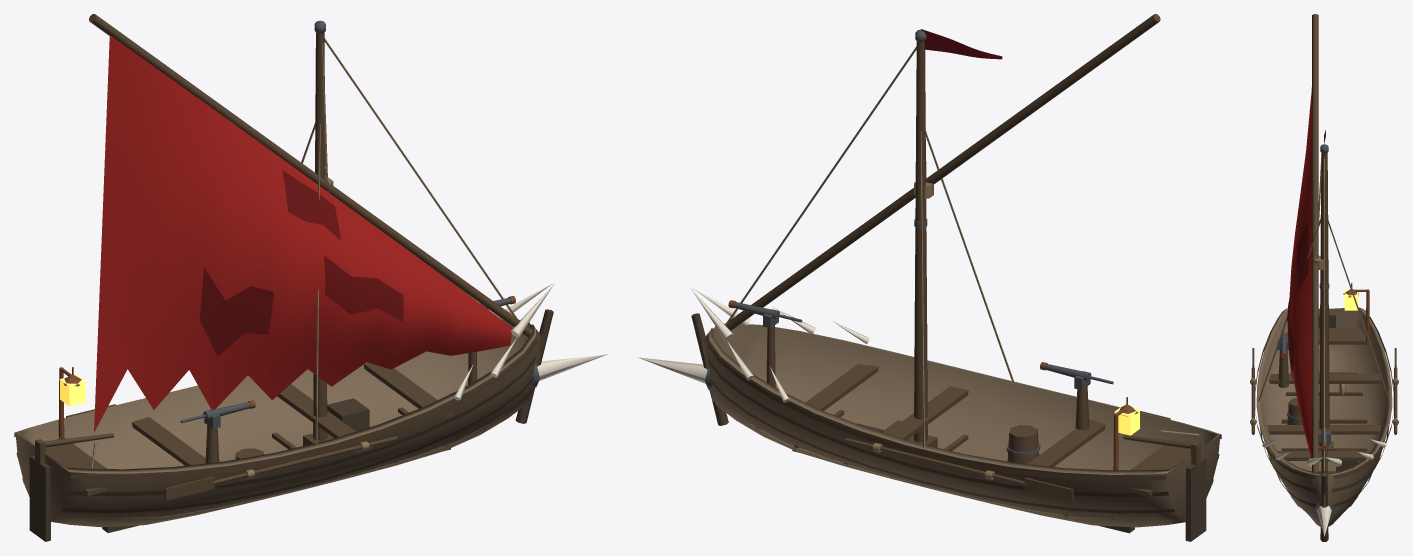
The model's file is raider-skiff-2-swivels.glb.
3 renders of one model, left to right at view 1: azimuth 30°, elevation 25°; view 2: azimuth 150°, elevation 25°; view 3: azimuth 270°, elevation 25°, orthographic. The views are drawn at different scales.
Parts seen in each view (by area): view 1: Mesh_Sail_Lateen, Mesh_Interior, Mesh_Hull, Mesh_LateenYard, Mesh_SailPatch1, Mesh_SailPatch0, Mesh_GunwaleS, Mesh_MastPole, Mesh_SailPatch2, Mesh_Strake0S, Mesh_Rudder, Mesh_Strake1S (+8 smaller); view 2: Mesh_Interior, Mesh_Hull, Mesh_LateenYard, Mesh_MastPole, Mesh_GunwaleP, Mesh_Strake0P, Mesh_Rudder, Mesh_Strake1P, Mesh_Thwart1, Mesh_Thwart2, Mesh_Thwart0, Mesh_SternSeat (+7 smaller); view 3: Mesh_Interior, Mesh_Sail_Lateen, Mesh_LateenYard, Mesh_Hull, Mesh_MastPole, Mesh_Thwart1, Mesh_Thwart0, Mesh_Thwart2, Mesh_SternSeat, Mesh_Forestay, Mesh_SailPatch2, Mesh_ShroudP (+14 smaller).
Part boxes in pixels (left/top/right/bottom): Mesh_Sail_Lateen: left=94, top=35, right=512, bottom=432; Mesh_Interior: left=15, top=320, right=535, bottom=518; Mesh_Hull: left=15, top=329, right=542, bottom=527; Mesh_LateenYard: left=89, top=14, right=536, bottom=337; Mesh_SailPatch1: left=199, top=267, right=273, bottom=356; Mesh_SailPatch0: left=324, top=255, right=403, bottom=321; Mesh_GunwaleS: left=70, top=338, right=537, bottom=480; Mesh_MastPole: left=313, top=32, right=327, bottom=440; Mesh_SailPatch2: left=282, top=170, right=340, bottom=240; Mesh_Strake0S: left=68, top=353, right=536, bottom=496; Mesh_Rudder: left=29, top=455, right=50, bottom=541; Mesh_Strake1S: left=61, top=371, right=535, bottom=512; Mesh_Interior: left=708, top=323, right=1219, bottom=518; Mesh_Hull: left=702, top=333, right=1220, bottom=527; Mesh_LateenYard: left=724, top=14, right=1160, bottom=330; Mesh_MastPole: left=914, top=41, right=927, bottom=442; Mesh_GunwaleP: left=707, top=335, right=1165, bottom=481; Mesh_Strake0P: left=708, top=354, right=1168, bottom=496; Mesh_Rudder: left=1185, top=456, right=1206, bottom=541; Mesh_Strake1P: left=710, top=376, right=1175, bottom=513; Mesh_Thwart1: left=869, top=386, right=968, bottom=454; Mesh_Thwart2: left=789, top=364, right=878, bottom=420; Mesh_Thwart0: left=1023, top=419, right=1105, bottom=480; Mesh_SternSeat: left=1129, top=438, right=1190, bottom=496; Mesh_Interior: left=1256, top=307, right=1392, bottom=509; Mesh_Sail_Lateen: left=1289, top=87, right=1311, bottom=458; Mesh_LateenYard: left=1312, top=14, right=1318, bottom=472; Mesh_Hull: left=1260, top=429, right=1388, bottom=526; Mesh_MastPole: left=1319, top=153, right=1329, bottom=446; Mesh_Thwart1: left=1261, top=425, right=1387, bottom=434; Mesh_Thwart0: left=1269, top=374, right=1380, bottom=383; Mesh_Thwart2: left=1270, top=451, right=1378, bottom=460; Mesh_SternSeat: left=1284, top=328, right=1368, bottom=344; Mesh_Forestay: left=1323, top=158, right=1324, bottom=470; Mesh_SailPatch2: left=1297, top=220, right=1308, bottom=292; Mesh_ShroudP: left=1328, top=220, right=1390, bottom=400.
Bounding box in the file's own units: 10.5 × 9.23 × 3.28.
